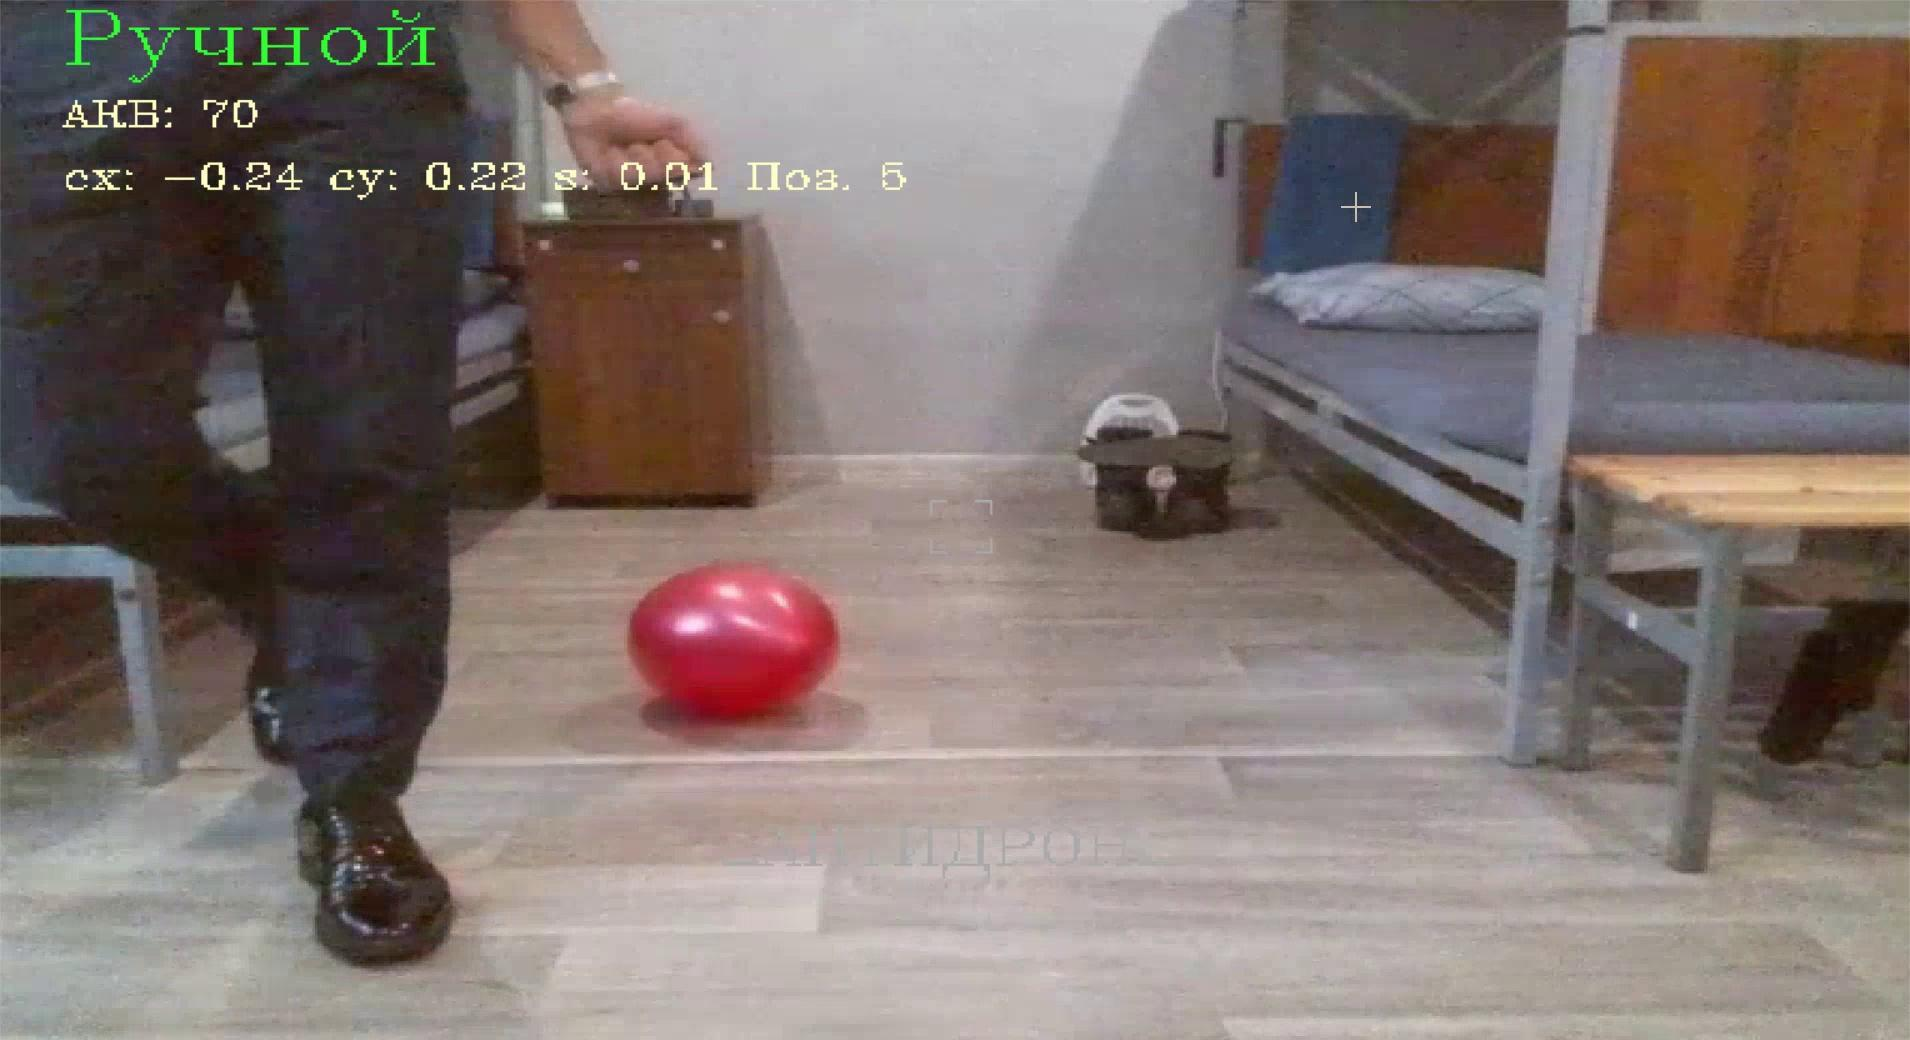red: (622, 557, 842, 732)
